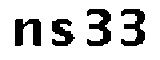3: (117, 5, 149, 49), (83, 6, 111, 48)
n: (11, 14, 44, 51)
s: (49, 16, 77, 53)
